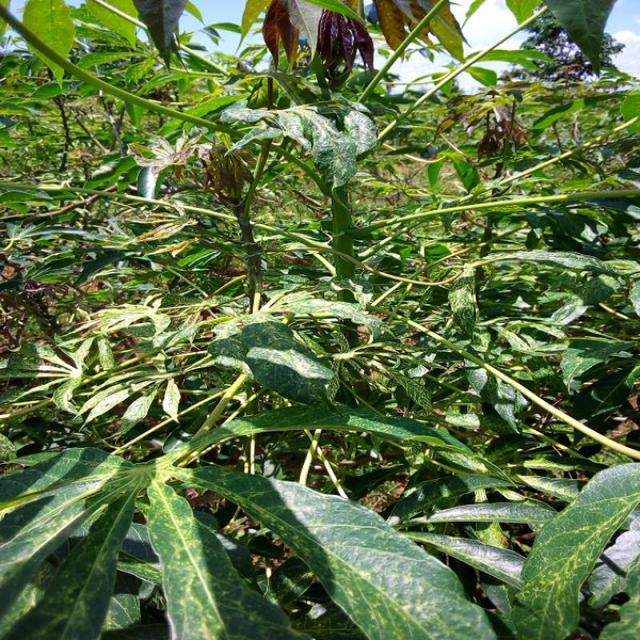cassava leaf: (172, 464, 498, 638), (0, 444, 145, 638), (145, 478, 309, 638), (506, 460, 638, 638)
